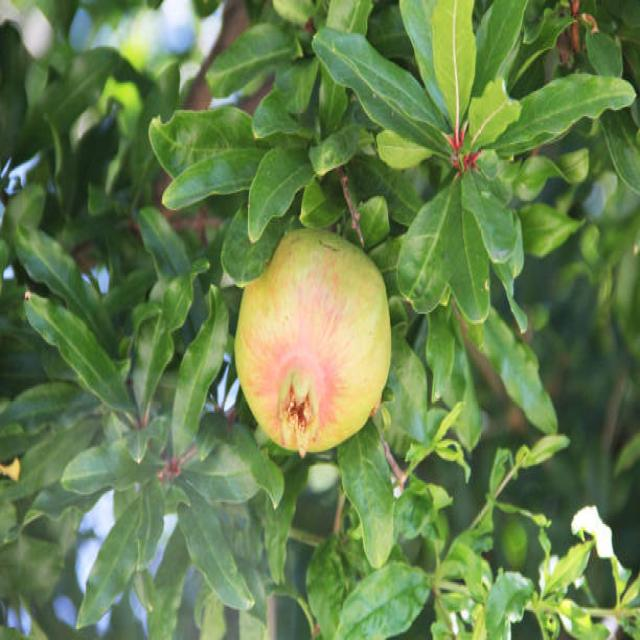Unripe: (235, 225, 394, 462)
